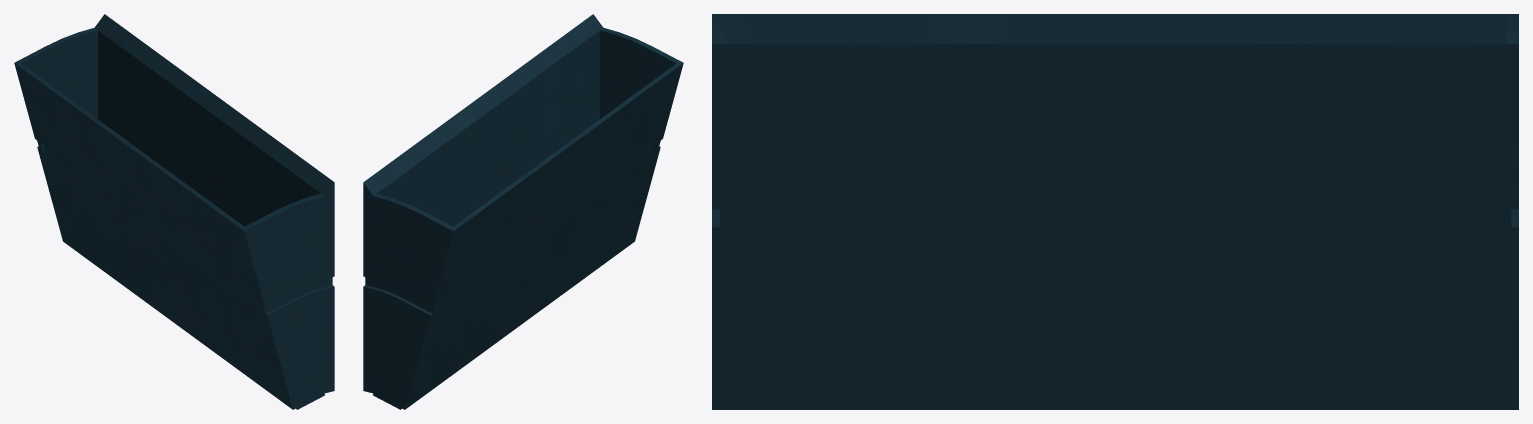
Rendered from Lid.fbx.
3 renders of one model, left to right at view 1: azimuth 30°, elevation 25°; view 2: azimuth 150°, elevation 25°; view 3: azimuth 270°, elevation 25°, orthographic. The views are drawn at different scales.
Parts seen in each view (by area): view 1: Cube.013; view 2: Cube.013; view 3: Cube.013.
Part boxes in pixels (x1,y1,x2,y2): Cube.013: (14,14,334,409); Cube.013: (363,14,683,409); Cube.013: (712,14,1518,409).
Bounding box in the file's own units: 121 × 279 × 533.
